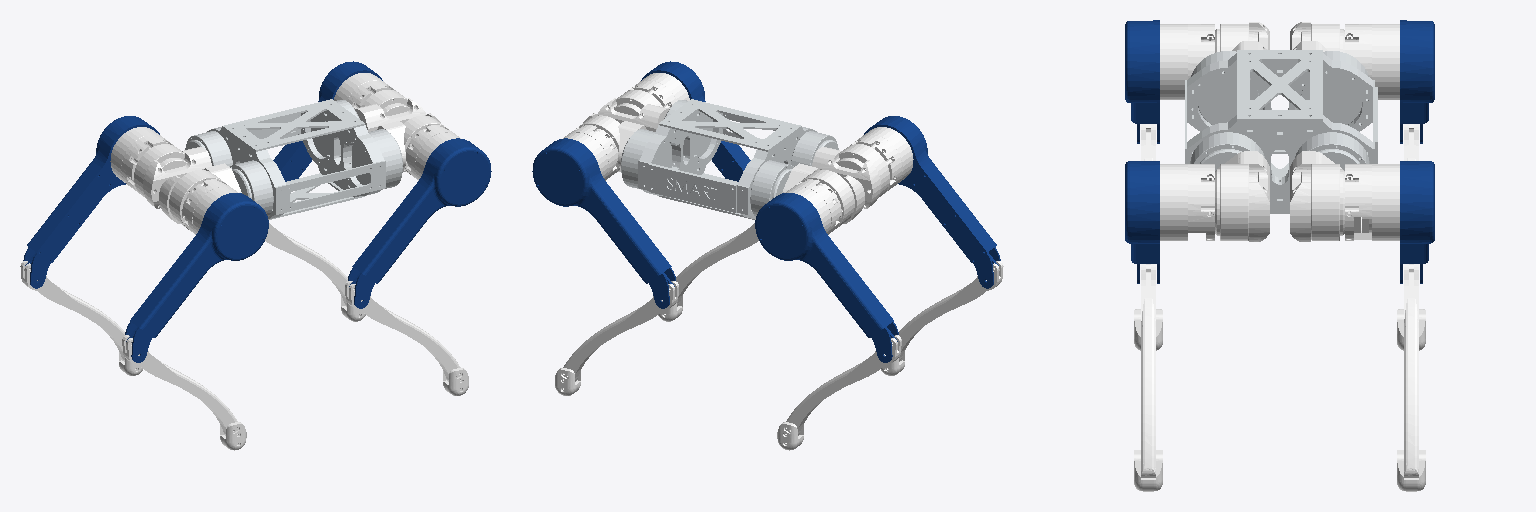
URDF robot description (test):
<?xml version="1.0" encoding="utf-8"?>
<!-- This URDF was automatically created by SolidWorks to URDF Exporter! Originally created by [author] ([email redacted]) 
     Commit Version: 1.6.0-1-g15f4949  Build Version: 1.6.7594.29634
     For more information, please see http://wiki.ros.org/sw_urdf_exporter -->
<robot
  name="test">
  <link
    name="body">
    <inertial>
      <origin
        xyz="-3.5600239045823E-07 0.000912743061266653 -2.41393643476973E-07"
        rpy="0 0 0" />
      <mass
        value="2.41069356541679" />
      <inertia
        ixx="0.00365818160656977"
        ixy="-1.2336818636224E-06"
        ixz="-2.16160432102664E-08"
        iyy="0.00283982683919365"
        iyz="2.88115246997741E-10"
        izz="0.00370214435138672" />
    </inertial>
    <visual>
      <origin
        xyz="0 0 0"
        rpy="0 0 0" />
      <geometry>
        <mesh
          filename="package://test/meshes/body.STL" />
      </geometry>
      <material
        name="">
        <color
          rgba="0.898039215686275 0.917647058823529 0.929411764705882 1" />
      </material>
    </visual>
    <collision>
      <origin
        xyz="0 0 0"
        rpy="0 0 0" />
      <geometry>
        <mesh
          filename="package://test/meshes/body.STL" />
      </geometry>
    </collision>
  </link>
  <link
    name="LF_hip">
    <inertial>
      <origin
        xyz="-0.0026778 0.019961 0.00024182"
        rpy="0 0 0" />
      <mass
        value="1.3338" />
      <inertia
        ixx="0.00084334"
        ixy="3.5844E-05"
        ixz="-7.608E-06"
        iyy="0.0013245"
        iyz="5.0118E-07"
        izz="0.00094497" />
    </inertial>
    <visual>
      <origin
        xyz="0 0 0"
        rpy="0 0 0" />
      <geometry>
        <mesh
          filename="package://test/meshes/LF_hip.STL" />
      </geometry>
      <material
        name="">
        <color
          rgba="1 1 1 1" />
      </material>
    </visual>
    <collision>
      <origin
        xyz="0 0 0"
        rpy="0 0 0" />
      <geometry>
        <mesh
          filename="package://test/meshes/LF_hip.STL" />
      </geometry>
    </collision>
  </link>
  <joint
    name="LF_hip_joint"
    type="revolute">
    <origin
      xyz="0.19255 0.06 0"
      rpy="0 0 0" />
    <parent
      link="body" />
    <child
      link="LF_hip" />
    <axis
      xyz="1 0 0" />
    <limit
      lower="0"
      upper="0"
      effort="0"
      velocity="0" />
  </joint>
  <link
    name="LF_thigh">
    <inertial>
      <origin
        xyz="-0.010335 -0.019388 -0.007781"
        rpy="0 0 0" />
      <mass
        value="1.9737" />
      <inertia
        ixx="0.0018477"
        ixy="-1.7037E-05"
        ixz="-0.00074205"
        iyy="0.0032305"
        iyz="6.4311E-07"
        izz="0.0020094" />
    </inertial>
    <visual>
      <origin
        xyz="0 0 0"
        rpy="0 0 0" />
      <geometry>
        <mesh
          filename="package://test/meshes/LF_thigh.STL" />
      </geometry>
      <material
        name="">
        <color
          rgba="0.12941 0.31373 0.58824 1" />
      </material>
    </visual>
    <collision>
      <origin
        xyz="0 0 0"
        rpy="0 0 0" />
      <geometry>
        <mesh
          filename="package://test/meshes/LF_thigh.STL" />
      </geometry>
    </collision>
  </link>
  <joint
    name="LF_thigh_joint"
    type="revolute">
    <origin
      xyz="0 0.0923 0"
      rpy="0 0 0" />
    <parent
      link="LF_hip" />
    <child
      link="LF_thigh" />
    <axis
      xyz="0 1 0" />
    <limit
      lower="0"
      upper="0"
      effort="0"
      velocity="0" />
  </joint>
  <link
    name="LF_calf">
    <inertial>
      <origin
        xyz="0.086345 1.3073E-06 -0.076932"
        rpy="0 0 0" />
      <mass
        value="0.10106" />
      <inertia
        ixx="0.00030055"
        ixy="-1.1205E-08"
        ixz="0.00031297"
        iyy="0.00064109"
        iyz="1.1142E-08"
        izz="0.00034593" />
    </inertial>
    <visual>
      <origin
        xyz="0 0 0"
        rpy="0 0 0" />
      <geometry>
        <mesh
          filename="package://test/meshes/LF_calf.STL" />
      </geometry>
      <material
        name="">
        <color
          rgba="1 1 1 1" />
      </material>
    </visual>
    <collision>
      <origin
        xyz="0 0 0"
        rpy="0 0 0" />
      <geometry>
        <mesh
          filename="package://test/meshes/LF_calf.STL" />
      </geometry>
    </collision>
  </link>
  <joint
    name="LF_calf_joint"
    type="revolute">
    <origin
      xyz="-0.169705627484778 0 -0.169705627484772"
      rpy="0 0 0" />
    <parent
      link="LF_thigh" />
    <child
      link="LF_calf" />
    <axis
      xyz="0 1 0" />
    <limit
      lower="0"
      upper="0"
      effort="0"
      velocity="0" />
  </joint>
  <link
    name="LF_foot">
    <inertial>
      <origin
        xyz="-0.084918 1.4382E-05 0.1007"
        rpy="0 0 0" />
      <mass
        value="0.22545" />
      <inertia
        ixx="0.0004324"
        ixy="-2.5124E-08"
        ixz="0.00058661"
        iyy="0.0012794"
        iyz="1.8861E-08"
        izz="0.00086313" />
    </inertial>
    <visual>
      <origin
        xyz="0 0 0"
        rpy="0 0 0" />
      <geometry>
        <mesh
          filename="package://test/meshes/LF_foot.STL" />
      </geometry>
      <material
        name="">
        <color
          rgba="1 1 1 1" />
      </material>
    </visual>
    <collision>
      <origin
        xyz="0 0 0"
        rpy="0 0 0" />
      <geometry>
        <mesh
          filename="package://test/meshes/LF_foot.STL" />
      </geometry>
    </collision>
  </link>
  <joint
    name="LF_foot_joint"
    type="continuous">
    <origin
      xyz="0.1697 0 -0.19821"
      rpy="0 0 0" />
    <parent
      link="LF_calf" />
    <child
      link="LF_foot" />
    <axis
      xyz="1 0 0" />
  </joint>
  <link
    name="LR_hip">
    <inertial>
      <origin
        xyz="0.0020881 0.019961 0.00021595"
        rpy="0 0 0" />
      <mass
        value="1.3338" />
      <inertia
        ixx="0.00084305"
        ixy="-3.5251E-05"
        ixz="-7.0776E-06"
        iyy="0.0013245"
        iyz="-2.5705E-07"
        izz="0.00094526" />
    </inertial>
    <visual>
      <origin
        xyz="0 0 0"
        rpy="0 0 0" />
      <geometry>
        <mesh
          filename="package://test/meshes/LR_hip.STL" />
      </geometry>
      <material
        name="">
        <color
          rgba="1 1 1 1" />
      </material>
    </visual>
    <collision>
      <origin
        xyz="0 0 0"
        rpy="0 0 0" />
      <geometry>
        <mesh
          filename="package://test/meshes/LR_hip.STL" />
      </geometry>
    </collision>
  </link>
  <joint
    name="LR_hip_joint"
    type="revolute">
    <origin
      xyz="-0.192550000000012 0.0599999999999961 0"
      rpy="0 0 0" />
    <parent
      link="body" />
    <child
      link="LR_hip" />
    <axis
      xyz="-1 0 0" />
    <limit
      lower="0"
      upper="0"
      effort="0"
      velocity="0" />
  </joint>
  <link
    name="LR_thigh">
    <inertial>
      <origin
        xyz="-0.010335 -0.019388 -0.007781"
        rpy="0 0 0" />
      <mass
        value="1.9737" />
      <inertia
        ixx="0.0018477"
        ixy="-1.7037E-05"
        ixz="-0.00074205"
        iyy="0.0032305"
        iyz="6.4311E-07"
        izz="0.0020094" />
    </inertial>
    <visual>
      <origin
        xyz="0 0 0"
        rpy="0 0 0" />
      <geometry>
        <mesh
          filename="package://test/meshes/LR_thigh.STL" />
      </geometry>
      <material
        name="">
        <color
          rgba="0.12941 0.31373 0.58824 1" />
      </material>
    </visual>
    <collision>
      <origin
        xyz="0 0 0"
        rpy="0 0 0" />
      <geometry>
        <mesh
          filename="package://test/meshes/LR_thigh.STL" />
      </geometry>
    </collision>
  </link>
  <joint
    name="LR_thigh_joint"
    type="revolute">
    <origin
      xyz="0 0.0923 0"
      rpy="0 0 0" />
    <parent
      link="LR_hip" />
    <child
      link="LR_thigh" />
    <axis
      xyz="0 1 0" />
    <limit
      lower="0"
      upper="0"
      effort="0"
      velocity="0" />
  </joint>
  <link
    name="LR_calf">
    <inertial>
      <origin
        xyz="0.086345 1.3071E-06 -0.076932"
        rpy="0 0 0" />
      <mass
        value="0.10106" />
      <inertia
        ixx="0.00030055"
        ixy="-1.1204E-08"
        ixz="0.00031297"
        iyy="0.00064109"
        iyz="1.1139E-08"
        izz="0.00034593" />
    </inertial>
    <visual>
      <origin
        xyz="0 0 0"
        rpy="0 0 0" />
      <geometry>
        <mesh
          filename="package://test/meshes/LR_calf.STL" />
      </geometry>
      <material
        name="">
        <color
          rgba="1 1 1 1" />
      </material>
    </visual>
    <collision>
      <origin
        xyz="0 0 0"
        rpy="0 0 0" />
      <geometry>
        <mesh
          filename="package://test/meshes/LR_calf.STL" />
      </geometry>
    </collision>
  </link>
  <joint
    name="LR_calf_joint"
    type="fixed">
    <origin
      xyz="-0.16971 0 -0.16971"
      rpy="0 0 0" />
    <parent
      link="LR_thigh" />
    <child
      link="LR_calf" />
    <axis
      xyz="0 0 0" />
  </joint>
  <link
    name="LR_foot">
    <inertial>
      <origin
        xyz="-0.0849178064774495 1.43821862774729E-05 0.10069956615718"
        rpy="0 0 0" />
      <mass
        value="0.225448506967637" />
      <inertia
        ixx="0.000432398762595766"
        ixy="-2.51255959371861E-08"
        ixz="0.000586609917531361"
        iyy="0.00127943742548985"
        iyz="1.88624665544347E-08"
        izz="0.000863130521979878" />
    </inertial>
    <visual>
      <origin
        xyz="0 0 0"
        rpy="0 0 0" />
      <geometry>
        <mesh
          filename="package://test/meshes/LR_foot.STL" />
      </geometry>
      <material
        name="">
        <color
          rgba="1 1 1 1" />
      </material>
    </visual>
    <collision>
      <origin
        xyz="0 0 0"
        rpy="0 0 0" />
      <geometry>
        <mesh
          filename="package://test/meshes/LR_foot.STL" />
      </geometry>
    </collision>
  </link>
  <joint
    name="LR_foot_joint"
    type="continuous">
    <origin
      xyz="0.1697 0 -0.19821"
      rpy="0 0 0" />
    <parent
      link="LR_calf" />
    <child
      link="LR_foot" />
    <axis
      xyz="1 0 0" />
  </joint>
  <link
    name="RF_hip">
    <inertial>
      <origin
        xyz="-0.00250625811953678 -0.0199606720146651 0.000340197749012033"
        rpy="0 0 0" />
      <mass
        value="1.33382111239092" />
      <inertia
        ixx="0.000834709914151415"
        ixy="-3.59710326898217E-05"
        ixz="-5.95478744637379E-06"
        iyy="0.00132446837358685"
        iyz="3.71540919096769E-07"
        izz="0.000953599317275639" />
    </inertial>
    <visual>
      <origin
        xyz="0 0 0"
        rpy="0 0 0" />
      <geometry>
        <mesh
          filename="package://test/meshes/RF_hip.STL" />
      </geometry>
      <material
        name="">
        <color
          rgba="1 1 1 1" />
      </material>
    </visual>
    <collision>
      <origin
        xyz="0 0 0"
        rpy="0 0 0" />
      <geometry>
        <mesh
          filename="package://test/meshes/RF_hip.STL" />
      </geometry>
    </collision>
  </link>
  <joint
    name="RF_hip_joint"
    type="revolute">
    <origin
      xyz="0.192550000000012 -0.0600000000000353 0"
      rpy="0 0 0" />
    <parent
      link="body" />
    <child
      link="RF_hip" />
    <axis
      xyz="1 0 0" />
    <limit
      lower="0"
      upper="0"
      effort="0"
      velocity="0" />
  </joint>
  <link
    name="RF_thigh">
    <inertial>
      <origin
        xyz="-0.0103351963444626 -0.0161808617756618 -0.00778099513089439"
        rpy="0 0 0" />
      <mass
        value="1.97374536973337" />
      <inertia
        ixx="0.00184774083989503"
        ixy="1.47255730906794E-06"
        ixz="-0.000742052754600554"
        iyy="0.00323045047542152"
        iyz="1.4921606743808E-05"
        izz="0.00200942312584476" />
    </inertial>
    <visual>
      <origin
        xyz="0 0 0"
        rpy="0 0 0" />
      <geometry>
        <mesh
          filename="package://test/meshes/RF_thigh.STL" />
      </geometry>
      <material
        name="">
        <color
          rgba="0.129411764705882 0.313725490196078 0.588235294117647 1" />
      </material>
    </visual>
    <collision>
      <origin
        xyz="0 0 0"
        rpy="0 0 0" />
      <geometry>
        <mesh
          filename="package://test/meshes/RF_thigh.STL" />
      </geometry>
    </collision>
  </link>
  <joint
    name="RF_thigh_joint"
    type="revolute">
    <origin
      xyz="0 -0.0923000000000122 0"
      rpy="0 0 0" />
    <parent
      link="RF_hip" />
    <child
      link="RF_thigh" />
    <axis
      xyz="0 -1 0" />
    <limit
      lower="0"
      upper="0"
      effort="0"
      velocity="0" />
  </joint>
  <link
    name="RF_calf">
    <inertial>
      <origin
        xyz="0.0863452079245287 1.30726571948014E-06 -0.0769323527426094"
        rpy="0 0 0" />
      <mass
        value="0.101058361984116" />
      <inertia
        ixx="0.000300552563399787"
        ixy="-1.12050633127148E-08"
        ixz="0.000312969537482263"
        iyy="0.000641089805183612"
        iyz="1.11415566648734E-08"
        izz="0.000345931678171512" />
    </inertial>
    <visual>
      <origin
        xyz="0 0 0"
        rpy="0 0 0" />
      <geometry>
        <mesh
          filename="package://test/meshes/RF_calf.STL" />
      </geometry>
      <material
        name="">
        <color
          rgba="1 1 1 1" />
      </material>
    </visual>
    <collision>
      <origin
        xyz="0 0 0"
        rpy="0 0 0" />
      <geometry>
        <mesh
          filename="package://test/meshes/RF_calf.STL" />
      </geometry>
    </collision>
  </link>
  <joint
    name="RF_calf_joint"
    type="revolute">
    <origin
      xyz="-0.16971 0 -0.16971"
      rpy="0 0 0" />
    <parent
      link="RF_thigh" />
    <child
      link="RF_calf" />
    <axis
      xyz="0 1 0" />
    <limit
      lower="0"
      upper="0"
      effort="0"
      velocity="0" />
  </joint>
  <link
    name="RF_foot">
    <inertial>
      <origin
        xyz="-0.0849188584591543 1.43821863474725E-05 0.100699566188751"
        rpy="0 0 0" />
      <mass
        value="0.225448506967637" />
      <inertia
        ixx="0.000432398762595757"
        ixy="-2.51255959356907E-08"
        ixz="0.000586609917531356"
        iyy="0.00127943742548983"
        iyz="1.88624665533102E-08"
        izz="0.000863130521979876" />
    </inertial>
    <visual>
      <origin
        xyz="0 0 0"
        rpy="0 0 0" />
      <geometry>
        <mesh
          filename="package://test/meshes/RF_foot.STL" />
      </geometry>
      <material
        name="">
        <color
          rgba="1 1 1 1" />
      </material>
    </visual>
    <collision>
      <origin
        xyz="0 0 0"
        rpy="0 0 0" />
      <geometry>
        <mesh
          filename="package://test/meshes/RF_foot.STL" />
      </geometry>
    </collision>
  </link>
  <joint
    name="RF_foot_joint"
    type="continuous">
    <origin
      xyz="0.1697 0 -0.19821"
      rpy="0 0 0" />
    <parent
      link="RF_calf" />
    <child
      link="RF_foot" />
    <axis
      xyz="1 0 0" />
  </joint>
  <link
    name="RR_hip">
    <inertial>
      <origin
        xyz="0 0 0"
        rpy="0 0 0" />
      <mass
        value="0" />
      <inertia
        ixx="0"
        ixy="0"
        ixz="0"
        iyy="0"
        iyz="0"
        izz="0" />
    </inertial>
    <visual>
      <origin
        xyz="0 0 0"
        rpy="0 0 0" />
      <geometry>
        <mesh
          filename="package://test/meshes/RR_hip.STL" />
      </geometry>
      <material
        name="">
        <color
          rgba="1 1 1 1" />
      </material>
    </visual>
    <collision>
      <origin
        xyz="0 0 0"
        rpy="0 0 0" />
      <geometry>
        <mesh
          filename="package://test/meshes/RR_hip.STL" />
      </geometry>
    </collision>
  </link>
  <joint
    name="RR_hip_joint"
    type="revolute">
    <origin
      xyz="-0.192550000000012 -0.0600000000000294 0"
      rpy="0 0 0" />
    <parent
      link="body" />
    <child
      link="RR_hip" />
    <axis
      xyz="-1 0 0" />
    <limit
      lower="0"
      upper="0"
      effort="0"
      velocity="0" />
  </joint>
  <link
    name="RR_thigh">
    <inertial>
      <origin
        xyz="-0.0103351963444515 -0.0161808617756698 -0.00778099513089892"
        rpy="0 0 0" />
      <mass
        value="1.97374536973337" />
      <inertia
        ixx="0.00184774083989503"
        ixy="1.47255730906772E-06"
        ixz="-0.000742052754600551"
        iyy="0.00323045047542152"
        iyz="1.49216067438076E-05"
        izz="0.00200942312584476" />
    </inertial>
    <visual>
      <origin
        xyz="0 0 0"
        rpy="0 0 0" />
      <geometry>
        <mesh
          filename="package://test/meshes/RR_thigh.STL" />
      </geometry>
      <material
        name="">
        <color
          rgba="0.129411764705882 0.313725490196078 0.588235294117647 1" />
      </material>
    </visual>
    <collision>
      <origin
        xyz="0 0 0"
        rpy="0 0 0" />
      <geometry>
        <mesh
          filename="package://test/meshes/RR_thigh.STL" />
      </geometry>
    </collision>
  </link>
  <joint
    name="RR_thigh_joint"
    type="revolute">
    <origin
      xyz="0 -0.0923000000000176 0"
      rpy="0 0 0" />
    <parent
      link="RR_hip" />
    <child
      link="RR_thigh" />
    <axis
      xyz="0 -1 0" />
    <limit
      lower="0"
      upper="0"
      effort="0"
      velocity="0" />
  </joint>
  <link
    name="RR_calf">
    <inertial>
      <origin
        xyz="0.0863452079245289 1.30726571193063E-06 -0.0769323527426098"
        rpy="0 0 0" />
      <mass
        value="0.101058361984117" />
      <inertia
        ixx="0.000300552563399787"
        ixy="-1.12050633127692E-08"
        ixz="0.000312969537482272"
        iyy="0.000641089805183611"
        iyz="1.11415566649437E-08"
        izz="0.00034593167817151" />
    </inertial>
    <visual>
      <origin
        xyz="0 0 0"
        rpy="0 0 0" />
      <geometry>
        <mesh
          filename="package://test/meshes/RR_calf.STL" />
      </geometry>
      <material
        name="">
        <color
          rgba="1 1 1 1" />
      </material>
    </visual>
    <collision>
      <origin
        xyz="0 0 0"
        rpy="0 0 0" />
      <geometry>
        <mesh
          filename="package://test/meshes/RR_calf.STL" />
      </geometry>
    </collision>
  </link>
  <joint
    name="RR_calf_joint"
    type="revolute">
    <origin
      xyz="-0.169705627484767 0 -0.169705627484773"
      rpy="0 0 0" />
    <parent
      link="RR_thigh" />
    <child
      link="RR_calf" />
    <axis
      xyz="0 1 0" />
    <limit
      lower="0"
      upper="0"
      effort="0"
      velocity="0" />
  </joint>
  <link
    name="RR_foot">
    <inertial>
      <origin
        xyz="-0.0849188769695097 0.00651438219986805 0.1006995787899"
        rpy="0 0 0" />
      <mass
        value="0.225448501043055" />
      <inertia
        ixx="0.000432398940074827"
        ixy="-2.51222185033131E-08"
        ixz="0.000586610271377616"
        iyy="0.00127943827949053"
        iyz="1.88601483913927E-08"
        izz="0.000863131198290614" />
    </inertial>
    <visual>
      <origin
        xyz="0 0 0"
        rpy="0 0 0" />
      <geometry>
        <mesh
          filename="package://test/meshes/RR_foot.STL" />
      </geometry>
      <material
        name="">
        <color
          rgba="1 1 1 1" />
      </material>
    </visual>
    <collision>
      <origin
        xyz="0 0 0"
        rpy="0 0 0" />
      <geometry>
        <mesh
          filename="package://test/meshes/RR_foot.STL" />
      </geometry>
    </collision>
  </link>
  <joint
    name="RR_foot_joint"
    type="continuous">
    <origin
      xyz="0.169704966239129 -0.00650000000001083 -0.198205627464849"
      rpy="0 0 0" />
    <parent
      link="RR_calf" />
    <child
      link="RR_foot" />
    <axis
      xyz="1 0 0" />
  </joint>
</robot>

--- Facts derived from the render (not from the file) ---
Views: 3 orthographic renders of the robot side by side, from view 1: azimuth 30°, elevation 25°; view 2: azimuth 150°, elevation 25°; view 3: azimuth 270°, elevation 25°.
Robot: test — 17 links, 16 joints (11 revolute, 4 continuous, 1 fixed); root link body; default pose: all joints at 0.
Visible links, largest first — view 1: body, RF_thigh, RR_thigh, LR_thigh, LR_hip, RR_hip, LF_hip, RF_hip, LF_thigh, RF_calf, RR_calf, LR_calf (+3 smaller); view 2: body, LF_thigh, LR_thigh, RR_thigh, RR_hip, LR_hip, RF_hip, LF_hip, RF_thigh, LF_calf, LR_calf, RR_calf (+3 smaller); view 3: body, LF_hip, RF_hip, RR_hip, LR_hip, LR_thigh, RR_thigh, LF_thigh, RF_thigh, LF_calf, RF_calf, LF_foot (+5 smaller).
Link boxes in pixels (x1,y1,x2,y2): body: (185,99,402,219); RF_thigh: (348,138,491,308); RR_thigh: (125,193,268,362); LR_thigh: (23,116,159,288); LR_hip: (110,127,211,208); RR_hip: (159,163,241,234); LF_hip: (334,73,426,131); RF_hip: (377,113,460,180); LF_thigh: (273,61,382,181); RF_calf: (345,281,460,380); RR_calf: (122,335,237,434); LR_calf: (20,261,124,360); body: (621,99,838,219); LF_thigh: (532,138,675,308); LR_thigh: (755,193,898,362); RR_thigh: (864,116,1000,288); RR_hip: (812,127,913,208); LR_hip: (782,163,864,234); RF_hip: (597,73,689,131); LF_hip: (563,113,646,180); RF_thigh: (641,61,750,181); LF_calf: (563,281,678,380); LR_calf: (786,335,901,434); RR_calf: (899,261,1003,360); body: (1185,50,1377,213); LF_hip: (1290,151,1399,241); RF_hip: (1160,151,1269,241); RR_hip: (1160,22,1269,99); LR_hip: (1290,22,1399,99); LR_thigh: (1400,20,1434,143); RR_thigh: (1125,20,1159,143); LF_thigh: (1400,161,1434,283); RF_thigh: (1125,161,1159,283); LF_calf: (1404,264,1418,477); RF_calf: (1141,264,1155,477); LF_foot: (1397,450,1425,491).
Size in the robot's own frame: 0.6202 by 0.3586 by 0.4284 metres.
Meshes: 17 distinct files referenced, 17 mesh visuals loaded (17 binary STL).